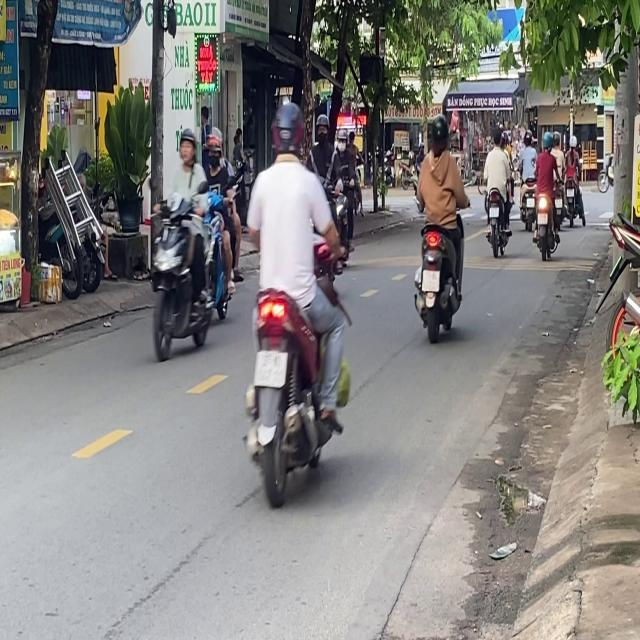helmet: (270, 100, 305, 161), (427, 112, 450, 153), (177, 125, 197, 165), (205, 128, 223, 164)
licenseplate: (242, 97, 354, 505), (146, 122, 235, 362), (411, 111, 468, 342), (199, 125, 242, 330)
nohelmet: (254, 350, 286, 385), (422, 269, 440, 292)
